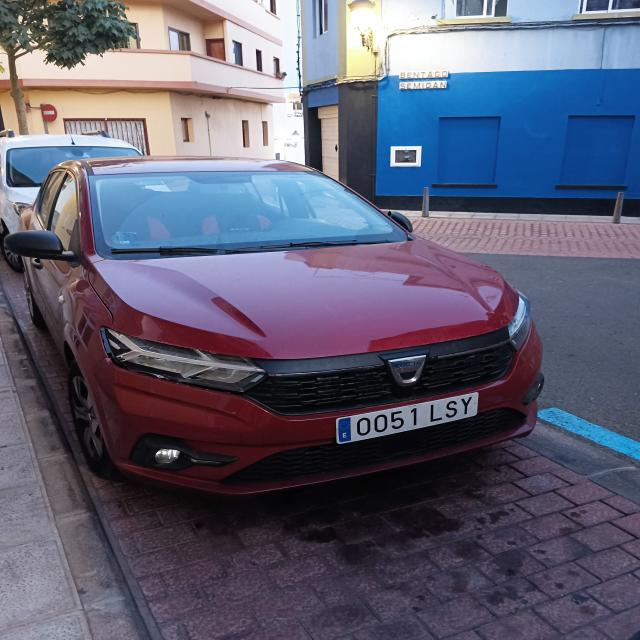football: (335, 392, 480, 446)
